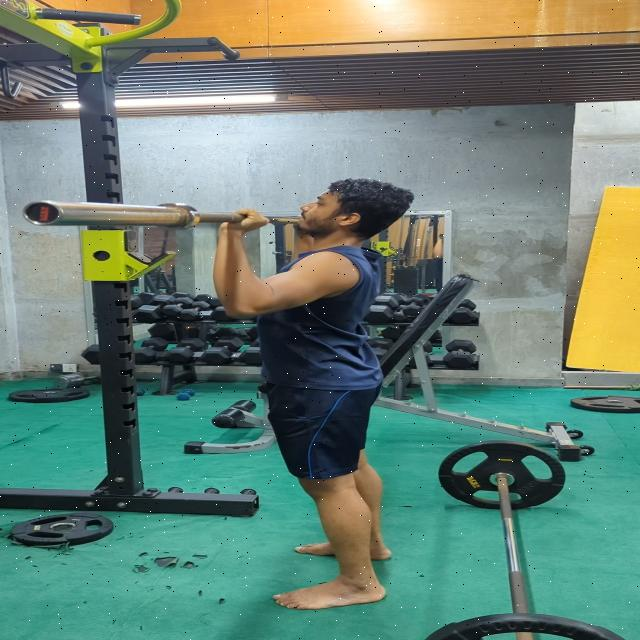Normal_OverheadPress: (196, 162, 420, 622)
